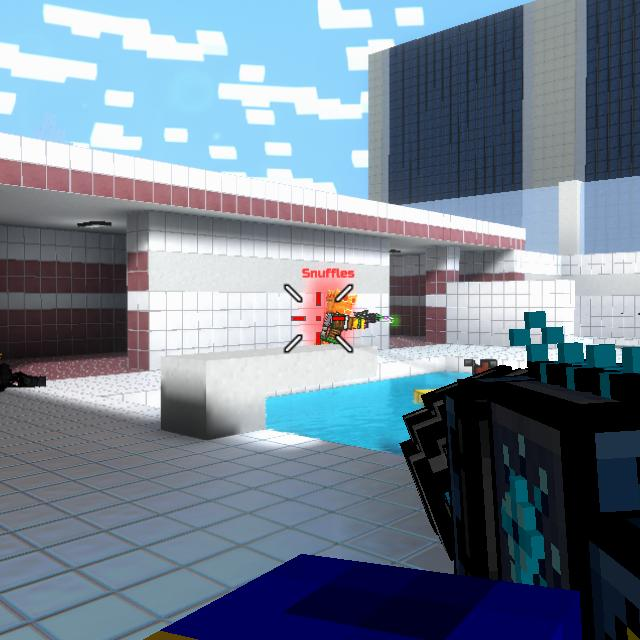Enemy: (318, 288, 362, 344)
